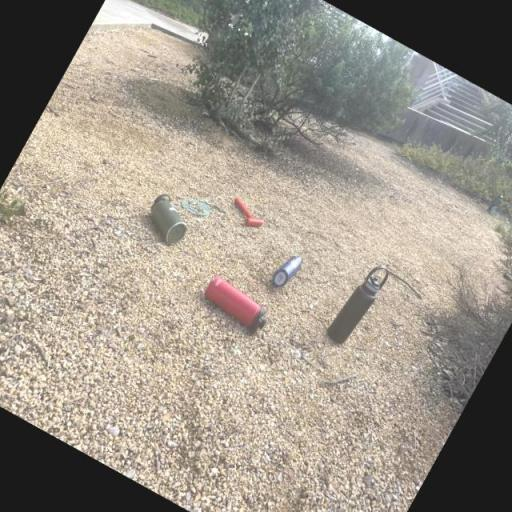bottle: (322, 257, 392, 352), (197, 270, 277, 334), (134, 187, 201, 253), (266, 242, 308, 296)
mallet: (222, 191, 276, 239)
